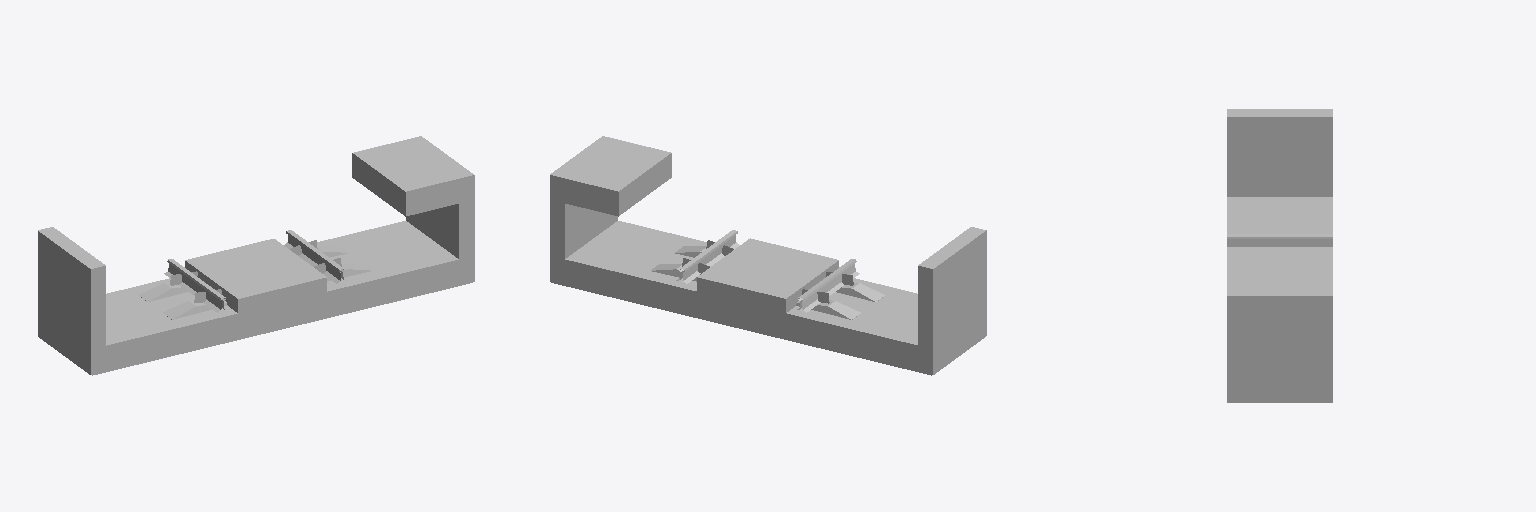
File: rail_platform_concrete_gray.obj
3 views of the same model, side by side, from view 1: azimuth 30°, elevation 25°; view 2: azimuth 150°, elevation 25°; view 3: azimuth 270°, elevation 25° (orthographic).
Parts seen in each view (by area): view 1: Cube.003, Cube.004, Cube.002, Cube.001, rail_c, Cube.008, Cube.007, Cube.006, Cube.005; view 2: Cube.003, Cube.004, Cube.002, rail_c, Cube.001, Cube.008, Cube.006, Cube.005, Cube.007; view 3: Cube.001, Cube.004, Cube.003, Cube.002, rail_c, Cube.006, Cube.005, Cube.007.
Boxes of the visible parts, box(x1,y1,x2,y2) form: Cube.003: box(92, 221, 469, 375); Cube.004: box(38, 227, 105, 374); Cube.002: box(185, 239, 326, 313); Cube.001: box(406, 136, 474, 285); rail_c: box(139, 230, 372, 319); Cube.008: box(352, 151, 412, 216); Cube.007: box(361, 147, 428, 214); Cube.006: box(376, 144, 443, 210); Cube.005: box(391, 140, 458, 206); Cube.003: box(551, 221, 931, 375); Cube.004: box(918, 227, 986, 374); Cube.002: box(697, 238, 838, 314); rail_c: box(651, 230, 884, 319); Cube.001: box(550, 136, 617, 281); Cube.008: box(611, 151, 671, 216); Cube.006: box(580, 143, 647, 210); Cube.005: box(565, 140, 632, 206); Cube.007: box(596, 147, 662, 214); Cube.001: box(1227, 288, 1332, 402); Cube.004: box(1227, 109, 1332, 196); Cube.003: box(1227, 197, 1332, 233); Cube.002: box(1227, 247, 1332, 261); rail_c: box(1227, 234, 1332, 246); Cube.006: box(1227, 273, 1332, 280); Cube.005: box(1227, 281, 1332, 287); Cube.007: box(1227, 266, 1332, 272).
Bounding box in the file's own units: 5 × 1.34 × 1.2.